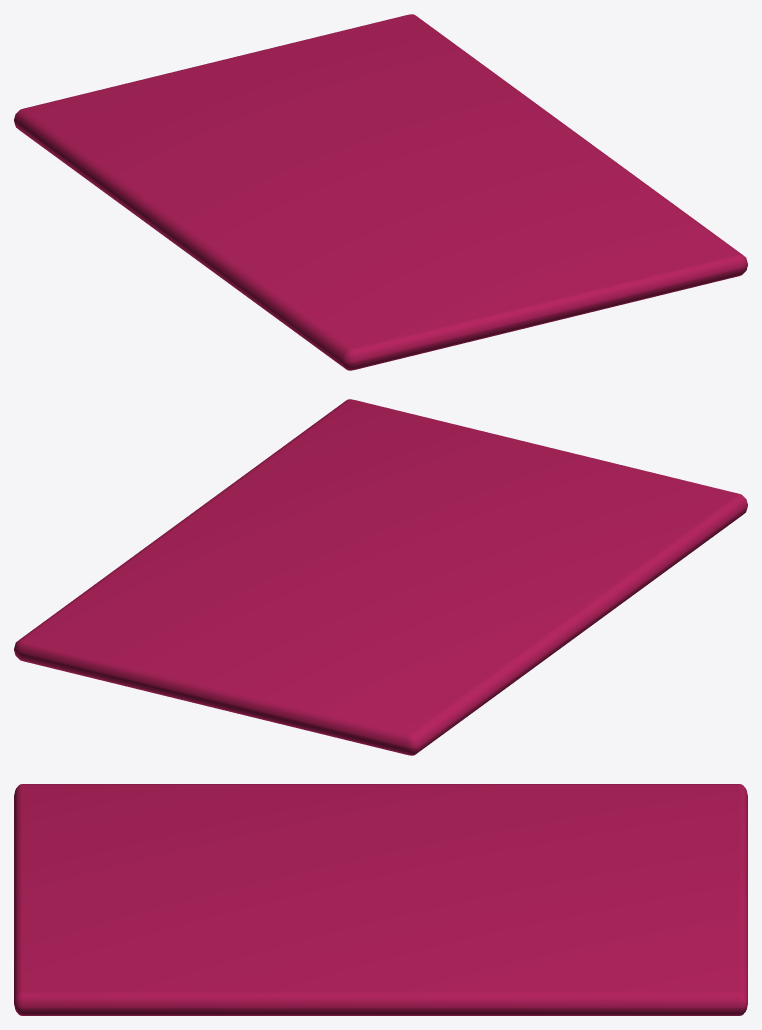
Rendered from Tarjeta.obj.
The picture shows the model from 3 angles, top to bottom: view 1: azimuth 30°, elevation 25°; view 2: azimuth 150°, elevation 25°; view 3: azimuth 270°, elevation 25°; orthographic projection. The views are drawn at different scales.
Visible parts, largest first — view 1: ChamferBox001; view 2: ChamferBox001; view 3: ChamferBox001.
Boxes of the visible parts, <box> form: ChamferBox001: <box>14,14,747,370</box>; ChamferBox001: <box>14,399,747,755</box>; ChamferBox001: <box>14,784,747,1015</box>.
Size of the model in its own units: 0.6976 by 0.0355 by 0.9993.
